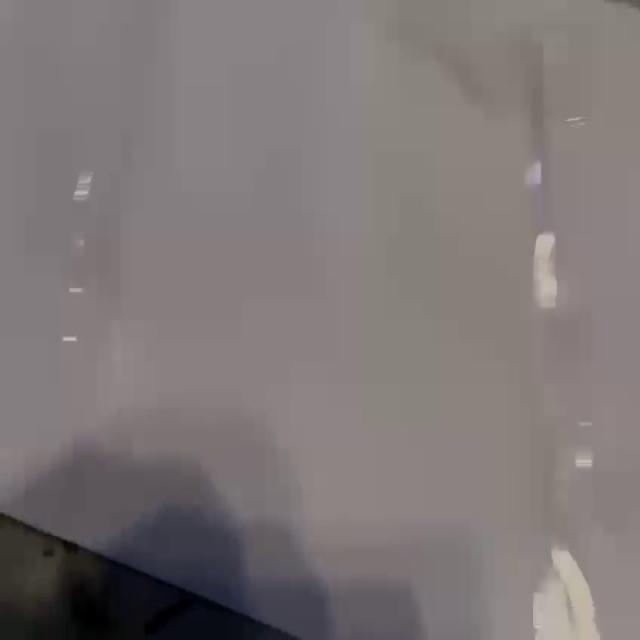road: (0, 0, 640, 639)
